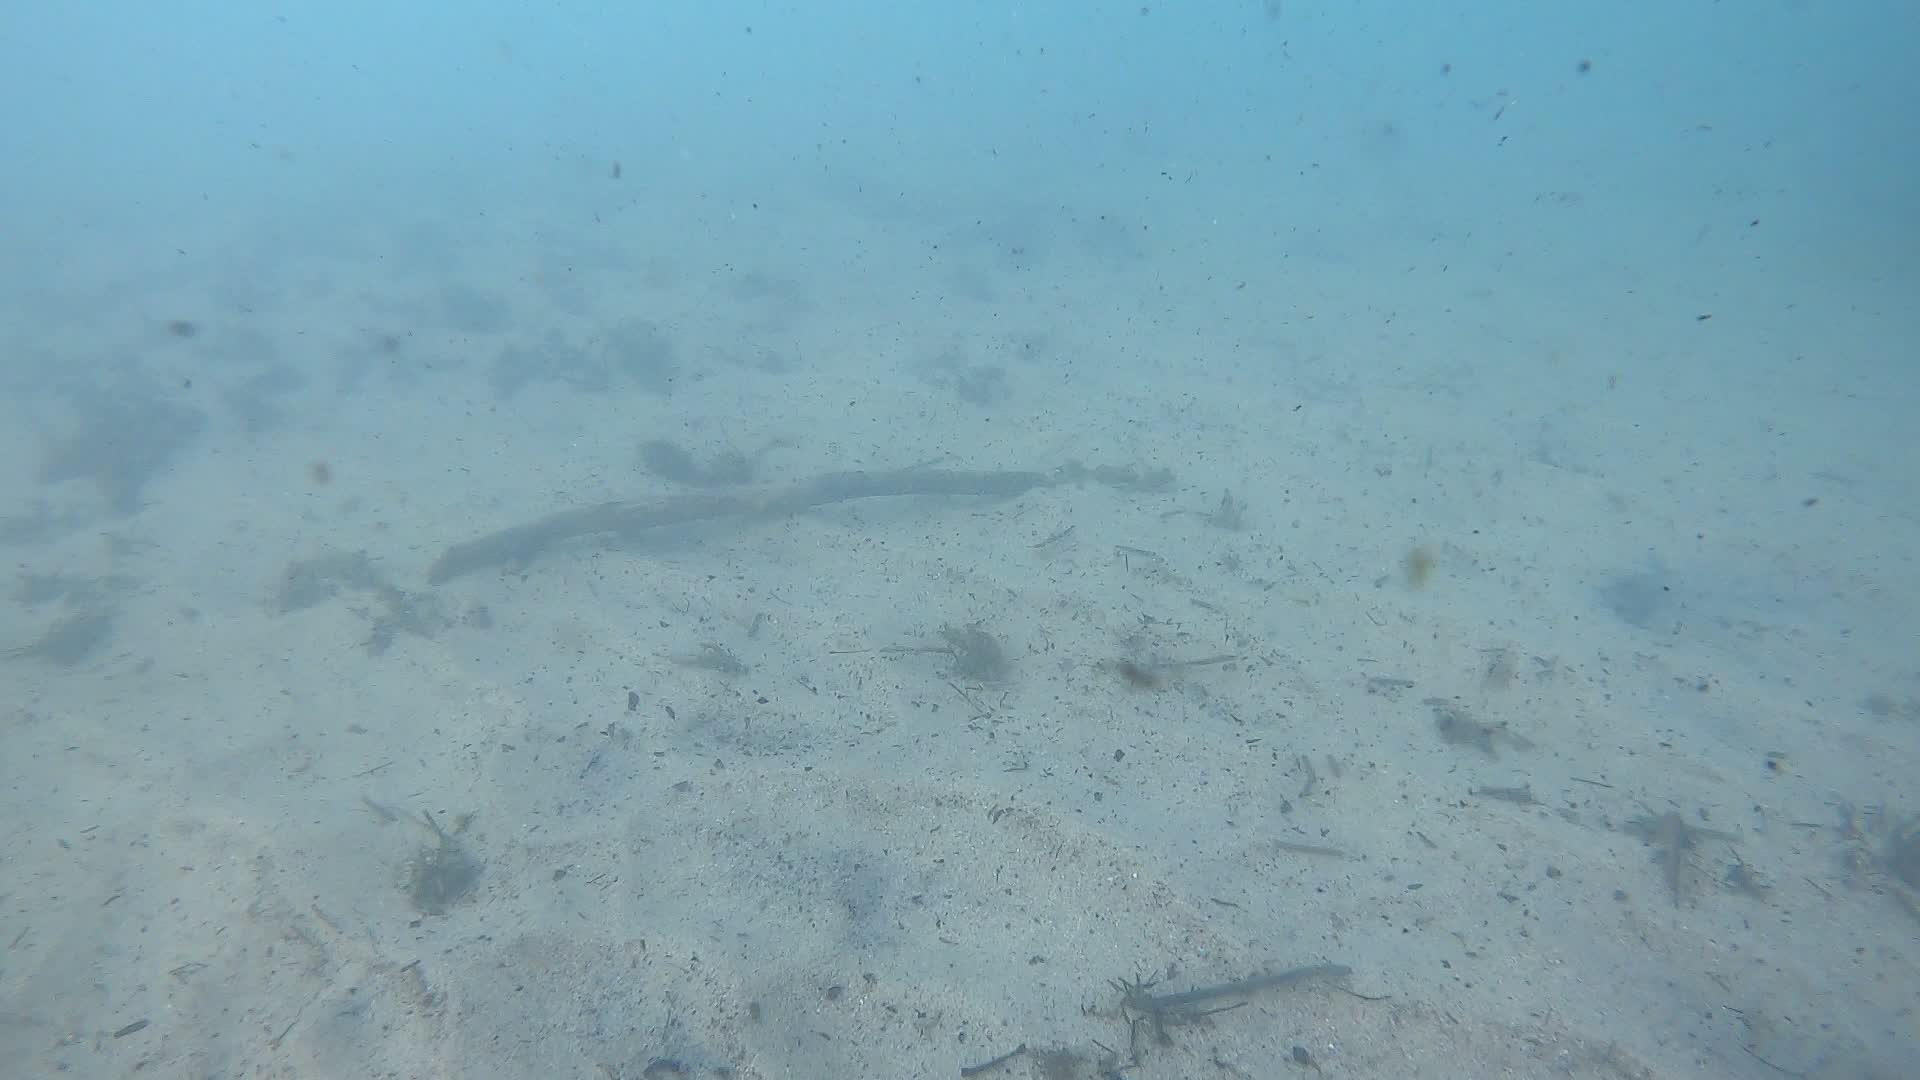wood: (425, 462, 1180, 587)
